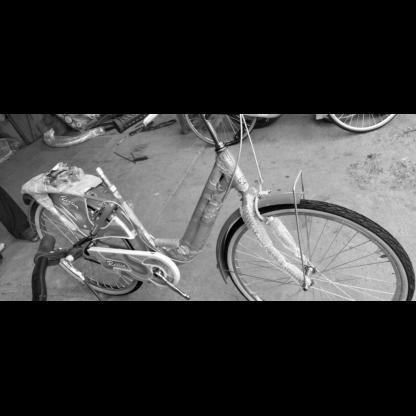Bicycle: (0, 114, 414, 302)
